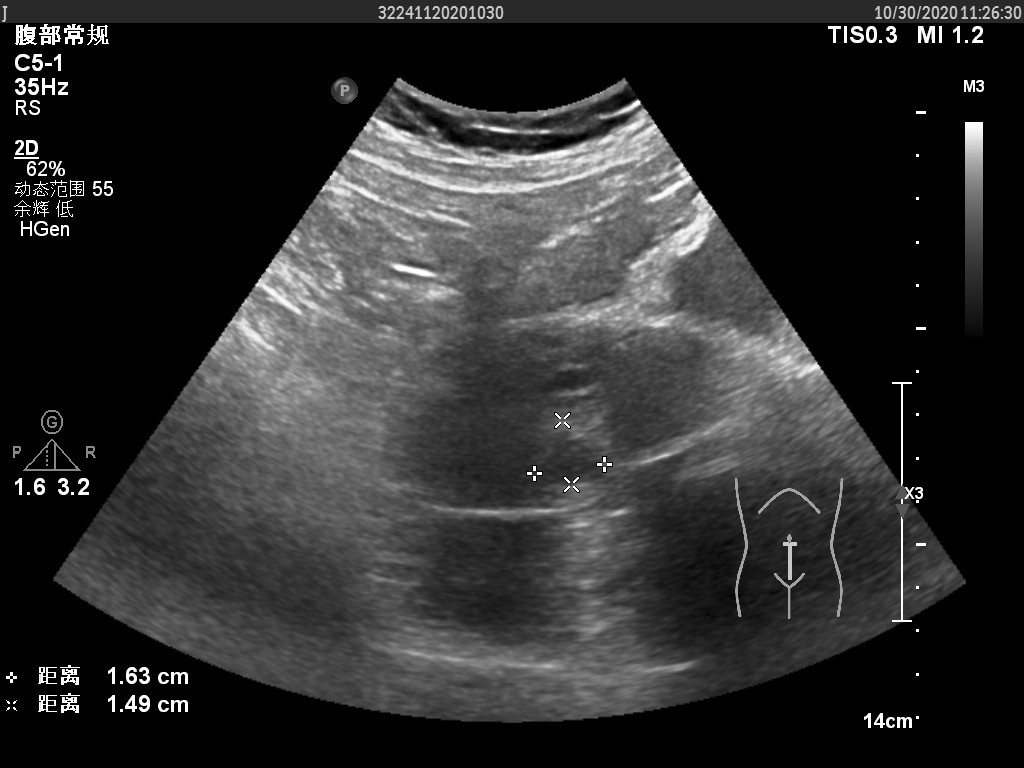肌瘤: (533, 418, 607, 484)
